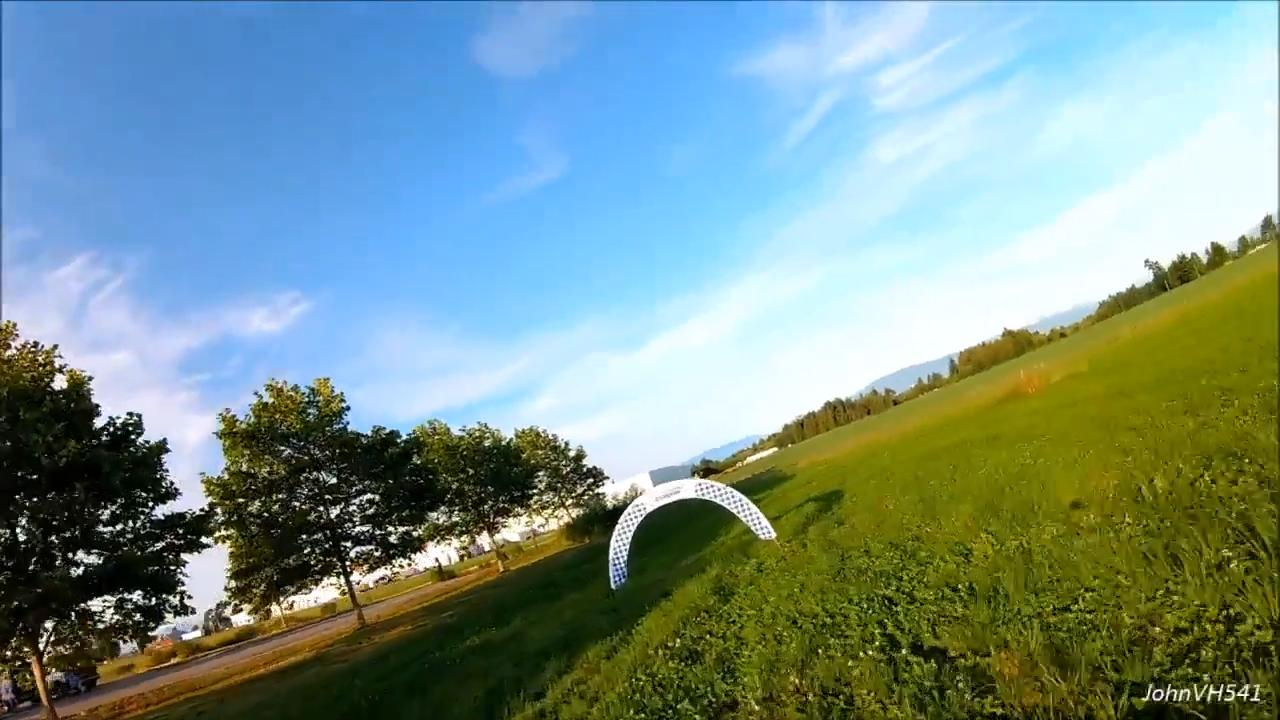gate: (609, 478, 776, 592)
